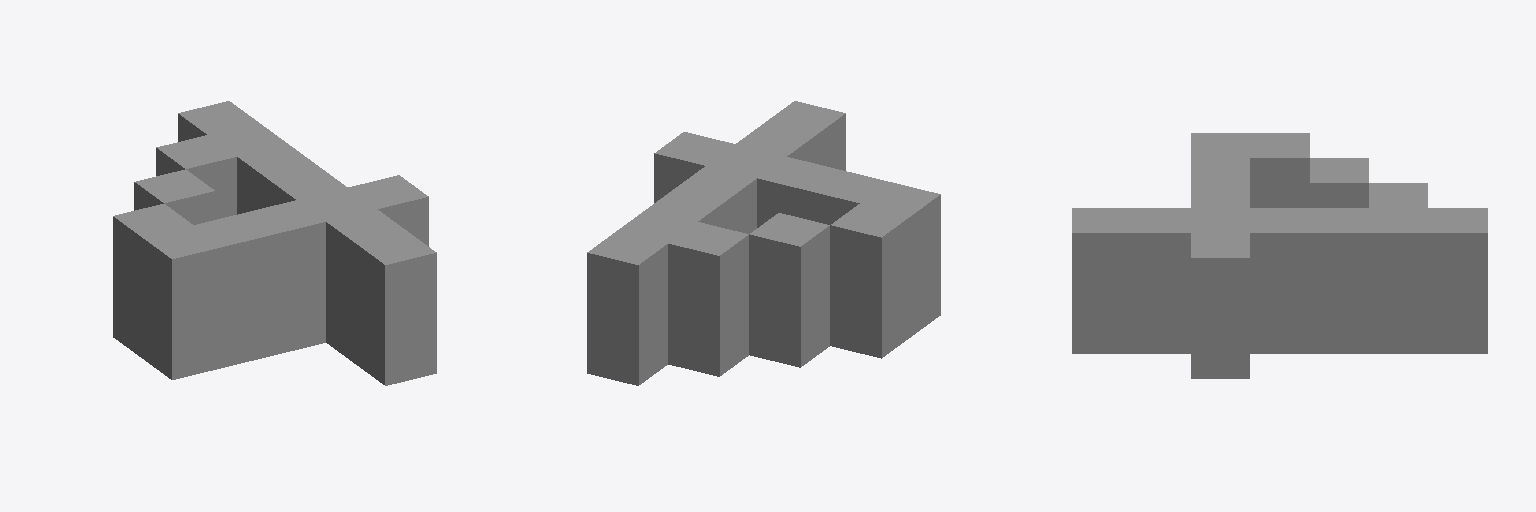
The picture shows the model from 3 angles: view 1: azimuth 30°, elevation 25°; view 2: azimuth 150°, elevation 25°; view 3: azimuth 270°, elevation 25°; orthographic projection.
Parts seen in each view (by area): view 1: 4_CUABC.031; view 2: 4_CUABC.031; view 3: 4_CUABC.031.
Boxes of the visible parts, box(x1,y1,x2,y2) form: 4_CUABC.031: box(113, 101, 436, 385); 4_CUABC.031: box(587, 101, 940, 385); 4_CUABC.031: box(1072, 133, 1487, 378).
Size of the model in its own units: 0.5556 by 0.25 by 0.7778.